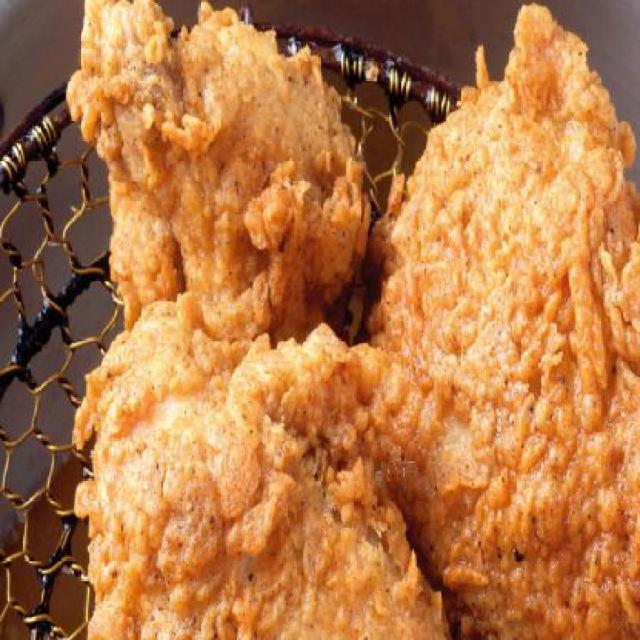Chicken -Fried Chicken-: (369, 0, 638, 638), (76, 302, 450, 638), (69, 0, 369, 322)
